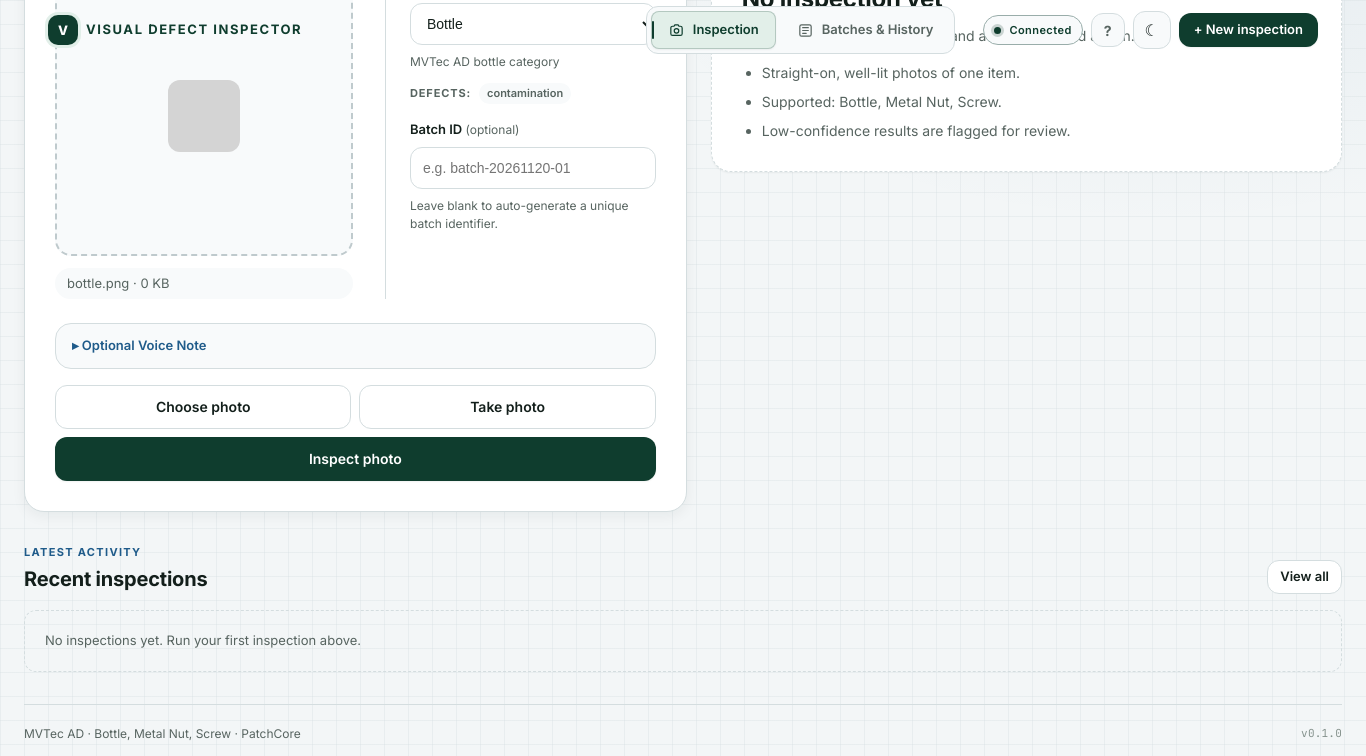
Test case: App › shows the loading state and disables the inspect action in flight
Earlier steps of the test are not shown.
Later steps or results of the test are not shown.
(page scrolled)
Step 1. Click the button "Inspect photo" → (355, 459), box [55,437,656,481]
(page scrolled)
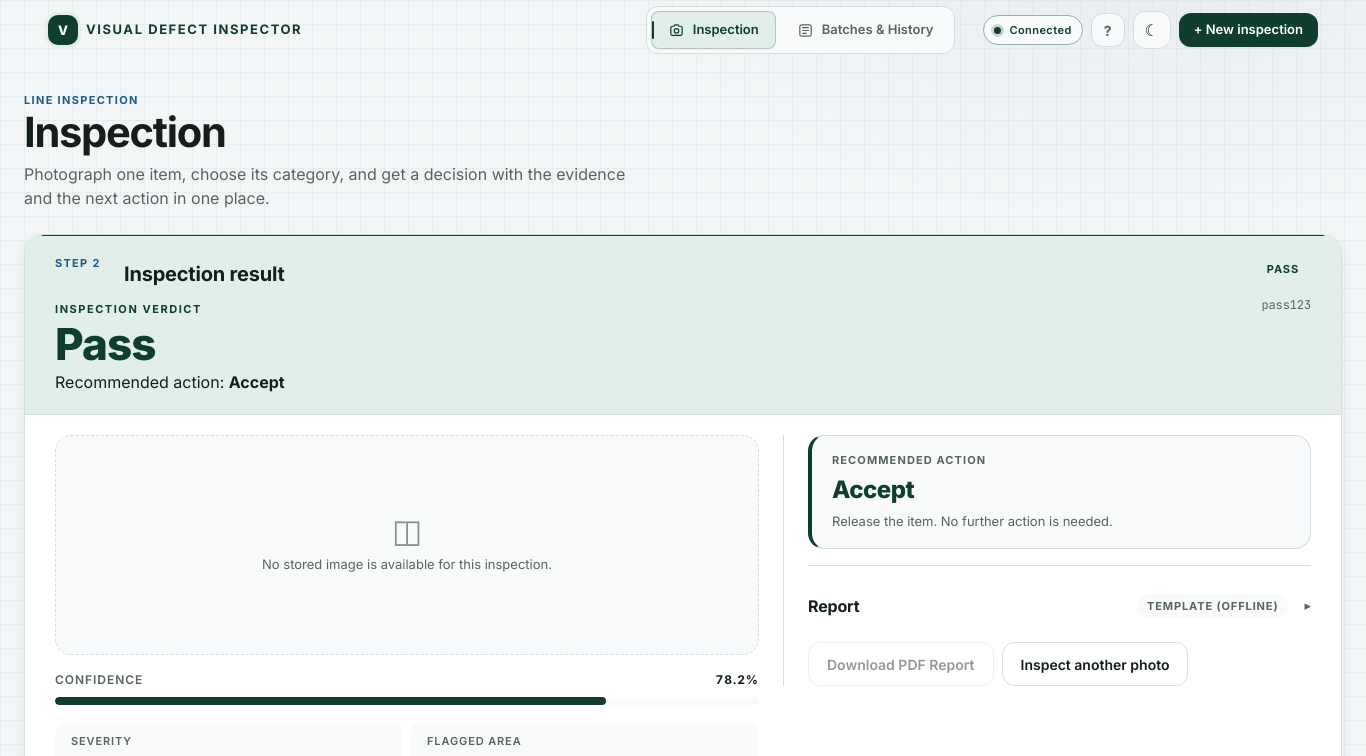
Expected: the text "Accept" next to "Recommended action:" is shown, [229,372,285,392]
